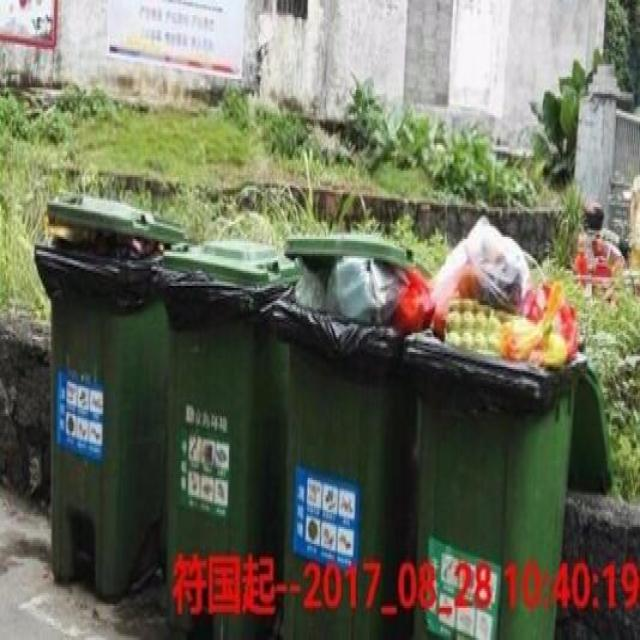garbage_bin: (152, 237, 296, 638)
overflow: (404, 211, 581, 638), (34, 192, 180, 597), (272, 239, 418, 638)
